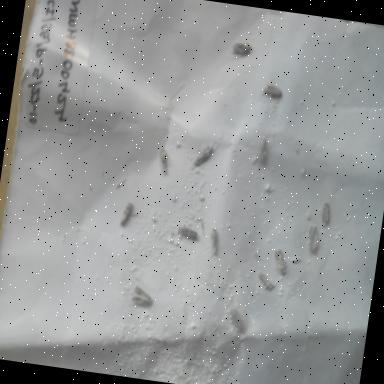pbw: (188, 140, 218, 174), (126, 281, 158, 311), (251, 132, 274, 170), (254, 80, 285, 106), (118, 199, 142, 229), (154, 142, 174, 178), (227, 305, 250, 336), (227, 36, 255, 61), (303, 221, 323, 256), (206, 226, 224, 260), (175, 221, 202, 243), (316, 198, 334, 230), (255, 270, 278, 295), (270, 248, 290, 276)
